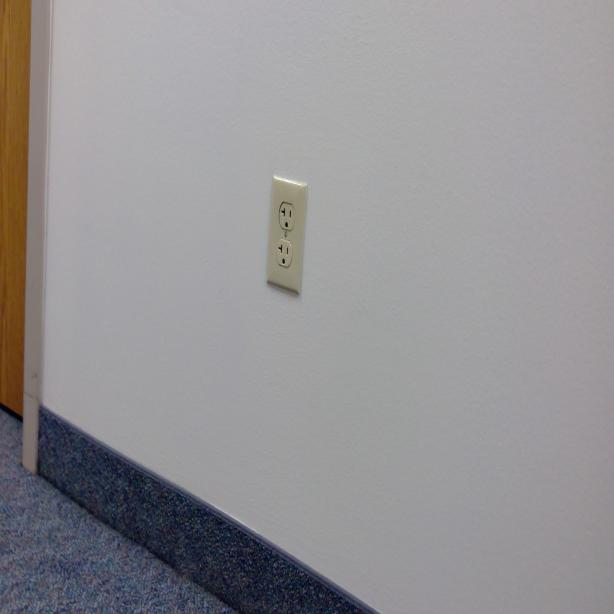typeb: (274, 242, 294, 270), (277, 202, 294, 232)
